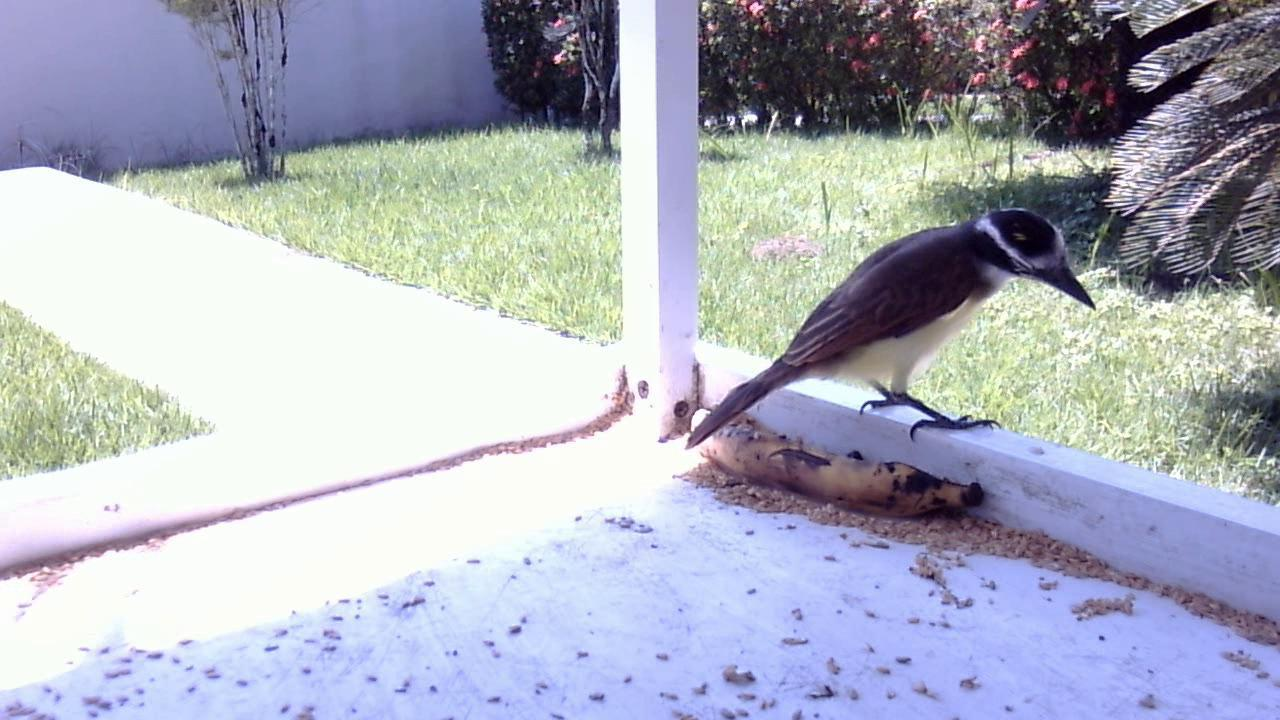bem_te_vi: (678, 201, 1102, 462)
